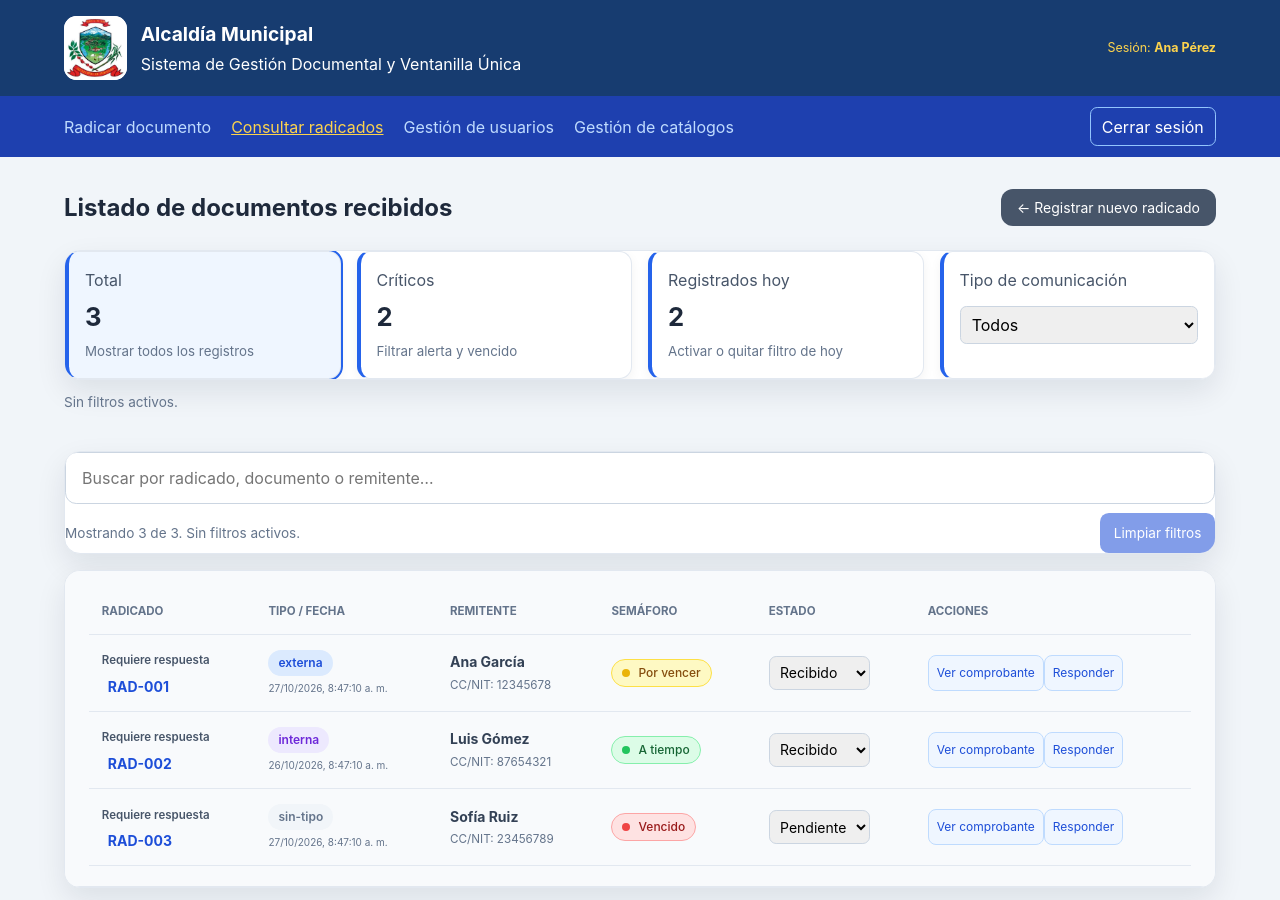
consulta de radicados React › presenta el historial paginado y no muestra identificadores de red o sesión
Check: the button "RAD-002" is shown, box [102,752,178,775]
Check: the button "RAD-003" is shown, box [102,830,178,852]
Click the button "RAD-001" at (138,686), box [102,675,175,698]
(page scrolled)
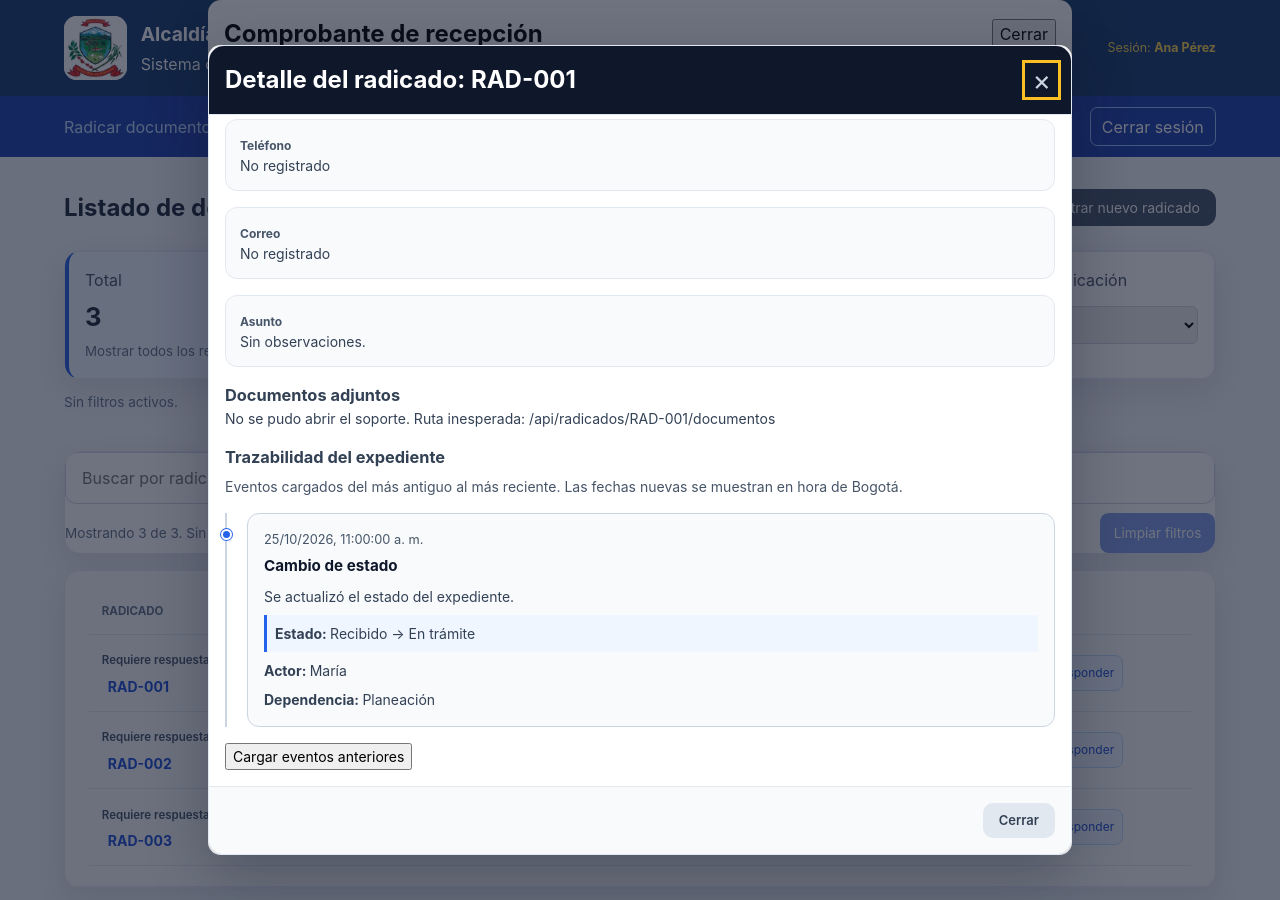
Check: the heading "Cambio de estado" is shown, box [264,556,398,575]
Check: the text "Recibido → En trámite" is shown, box [264,615,1038,652]
Check: the text "María" reads "Actor: María", box [264,662,347,679]
Click the button "Cargar eventos anteriores" at (319,756), box [225,743,412,770]
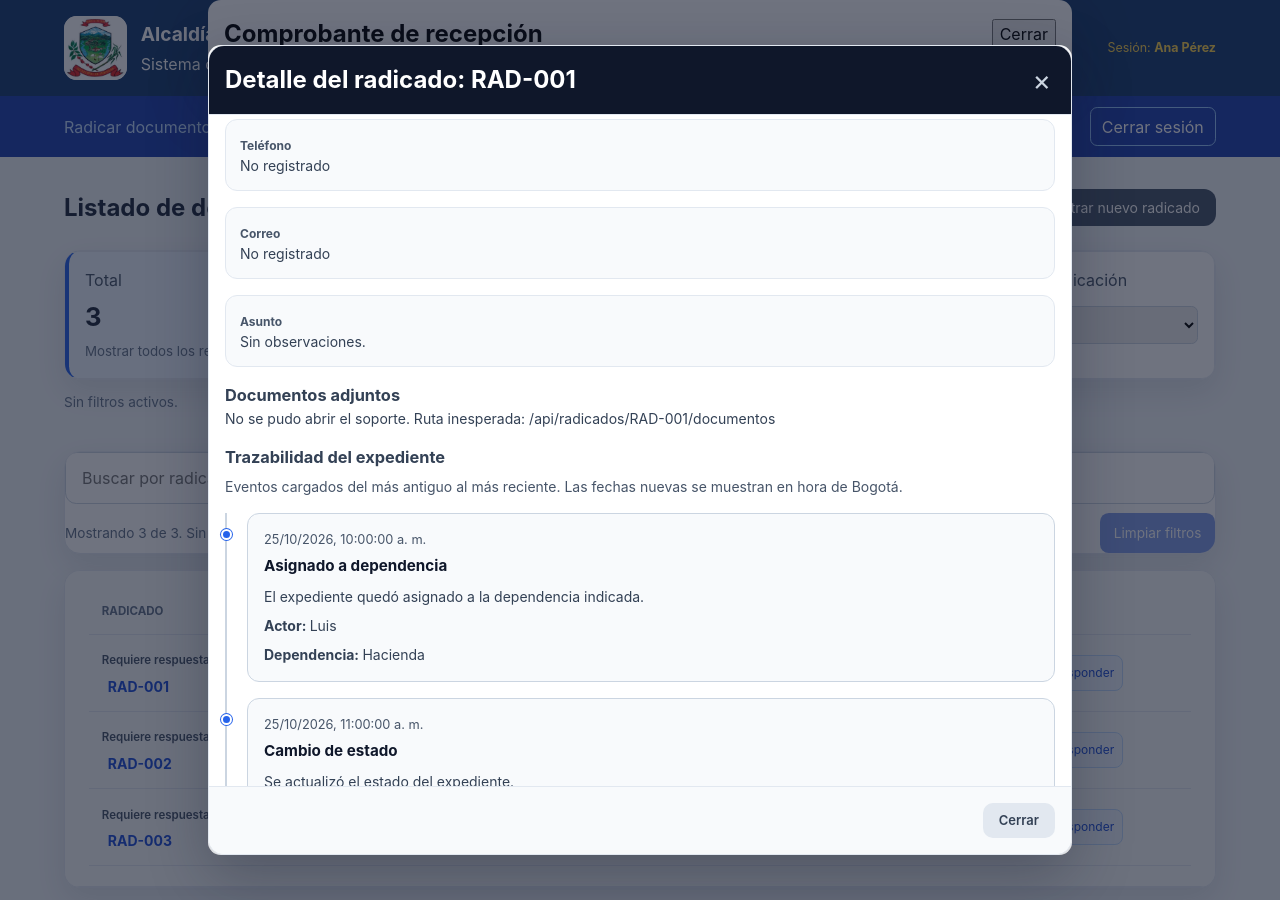
Check: the text "Hacienda" reads "Dependencia: Hacienda", box [264,646,425,663]
Check: the list item shows "Asignado a dependencia", box [264,556,447,575]
